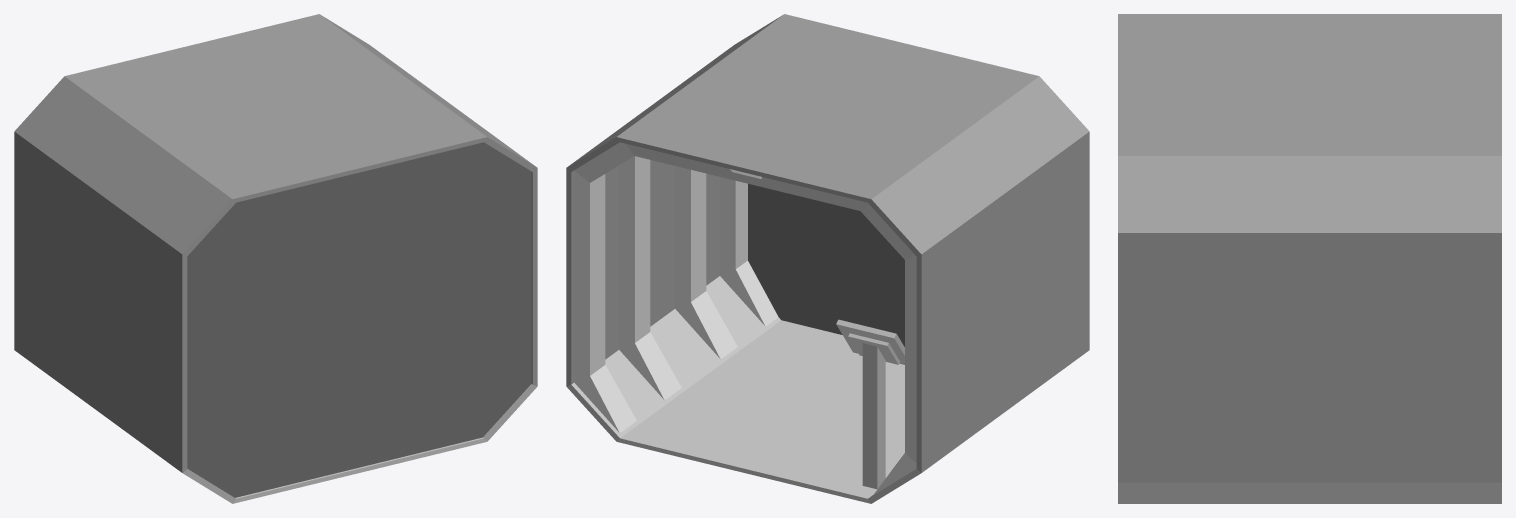
Rendered from Lift.fbx.
3 renders of one model, left to right at view 1: azimuth 30°, elevation 25°; view 2: azimuth 150°, elevation 25°; view 3: azimuth 270°, elevation 25°, orthographic. The views are drawn at different scales.
Visible parts, largest first — view 1: Cube.004; view 2: Cube.004; view 3: Cube.004.
Part boxes in pixels (bbox=[...]): Cube.004: bbox=[14, 14, 537, 503]; Cube.004: bbox=[566, 14, 1089, 503]; Cube.004: bbox=[1118, 14, 1501, 503].
Bounding box in the file's own units: 366 × 300 × 300.
